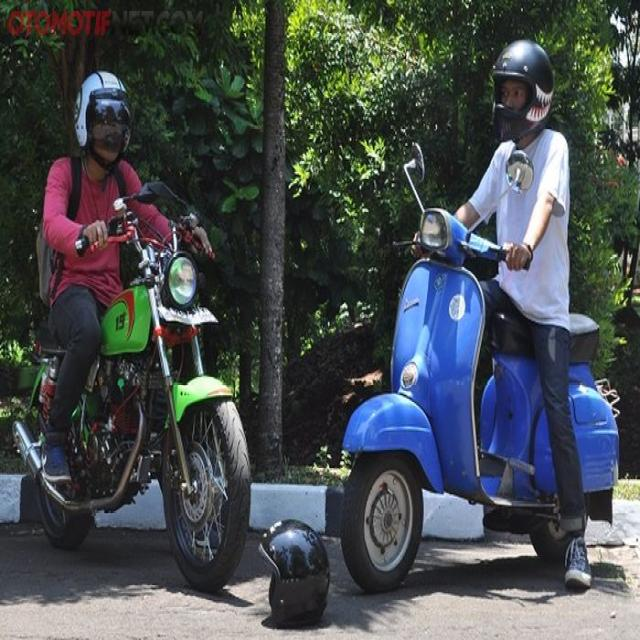Helm: (258, 516, 332, 630), (487, 33, 556, 147), (70, 62, 137, 170)
